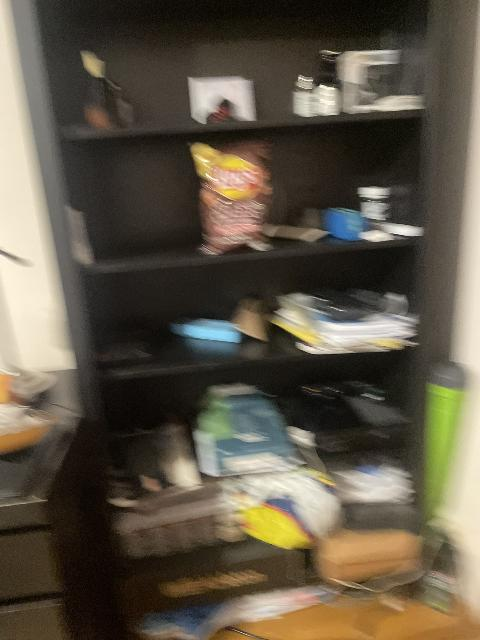Lays Beef Grilled Ribs 125g: (190, 141, 274, 254)
